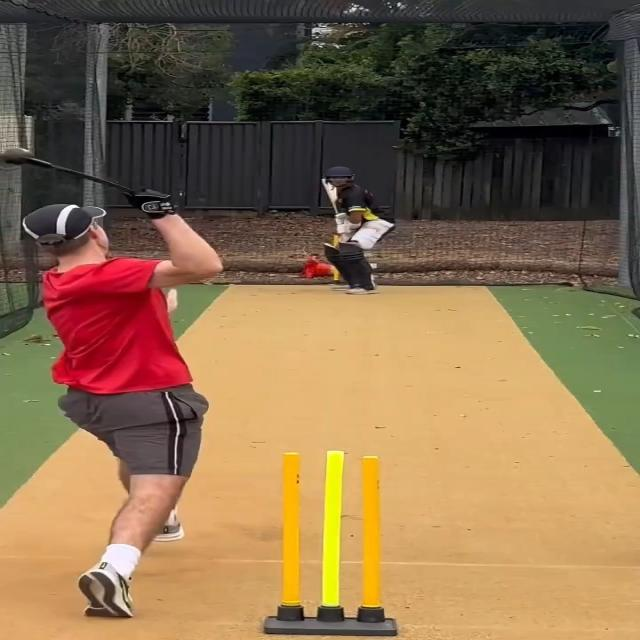stump: (260, 450, 400, 640)
